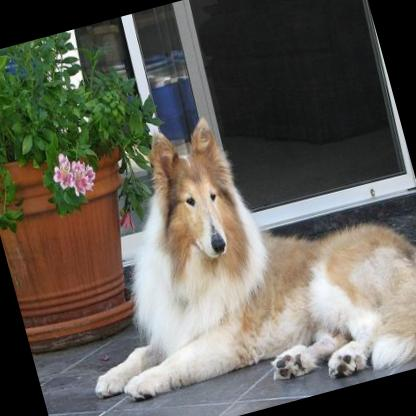collie: (31, 69, 416, 416)
